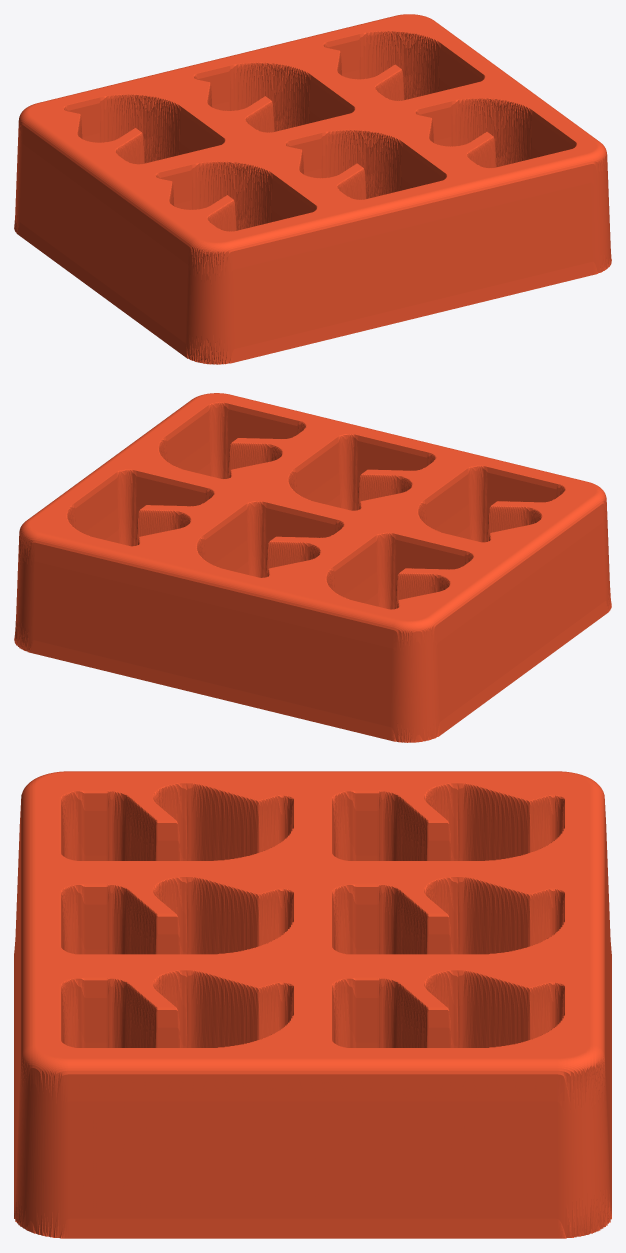
File: mold.glb
3 views of the same model, one above another, from view 1: azimuth 30°, elevation 25°; view 2: azimuth 150°, elevation 25°; view 3: azimuth 270°, elevation 25° (orthographic). The views are drawn at different scales.
Parts seen in each view (by area): view 1: geometry_0; view 2: geometry_0; view 3: geometry_0.
Part boxes in pixels (<box>): geometry_0: <box>14,14,611,364</box>; geometry_0: <box>14,393,611,742</box>; geometry_0: <box>14,771,611,1238</box>.
Size of the model in its own units: 0.1198 by 0.0314 by 0.0996.
